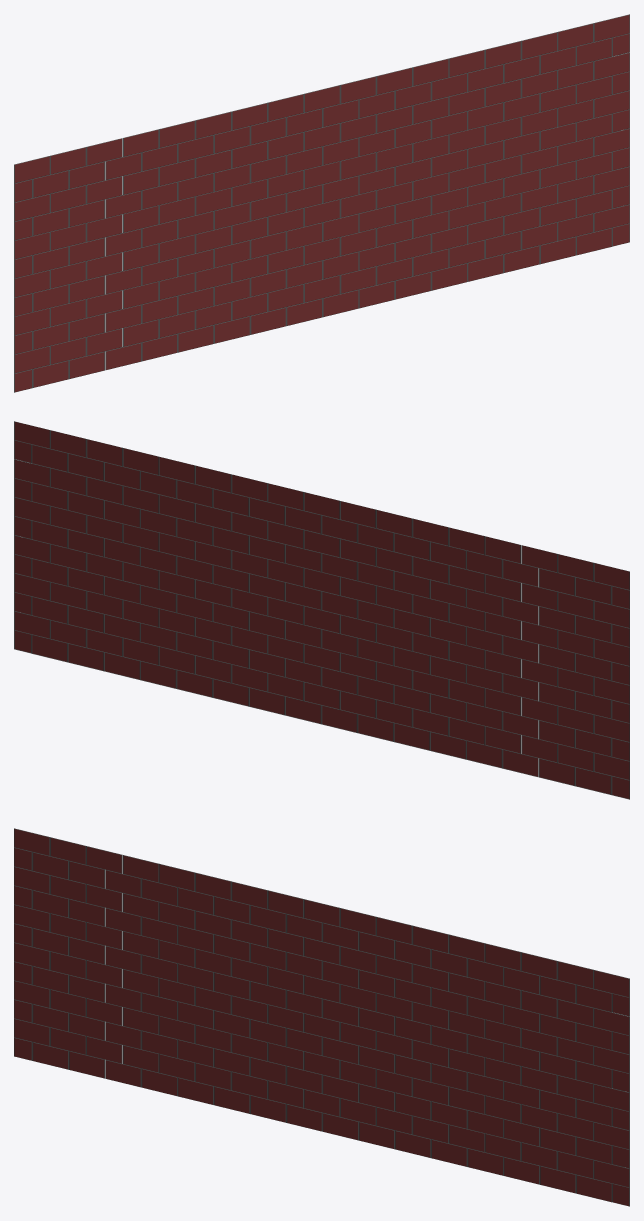
File: Tiles_2.fbx
3 views of the same model, one above another, from view 1: azimuth 30°, elevation 25°; view 2: azimuth 150°, elevation 25°; view 3: azimuth 330°, elevation 25° (orthographic).
Visible parts, largest first — view 1: Tiles_2; view 2: Tiles_2; view 3: Tiles_2.
Part boxes in pixels (x1,y1,x2,y2): Tiles_2: [14, 14, 629, 392]; Tiles_2: [14, 421, 629, 799]; Tiles_2: [14, 828, 629, 1206].
Bounding box in the file's own units: 489 × 0.167 × 173.
